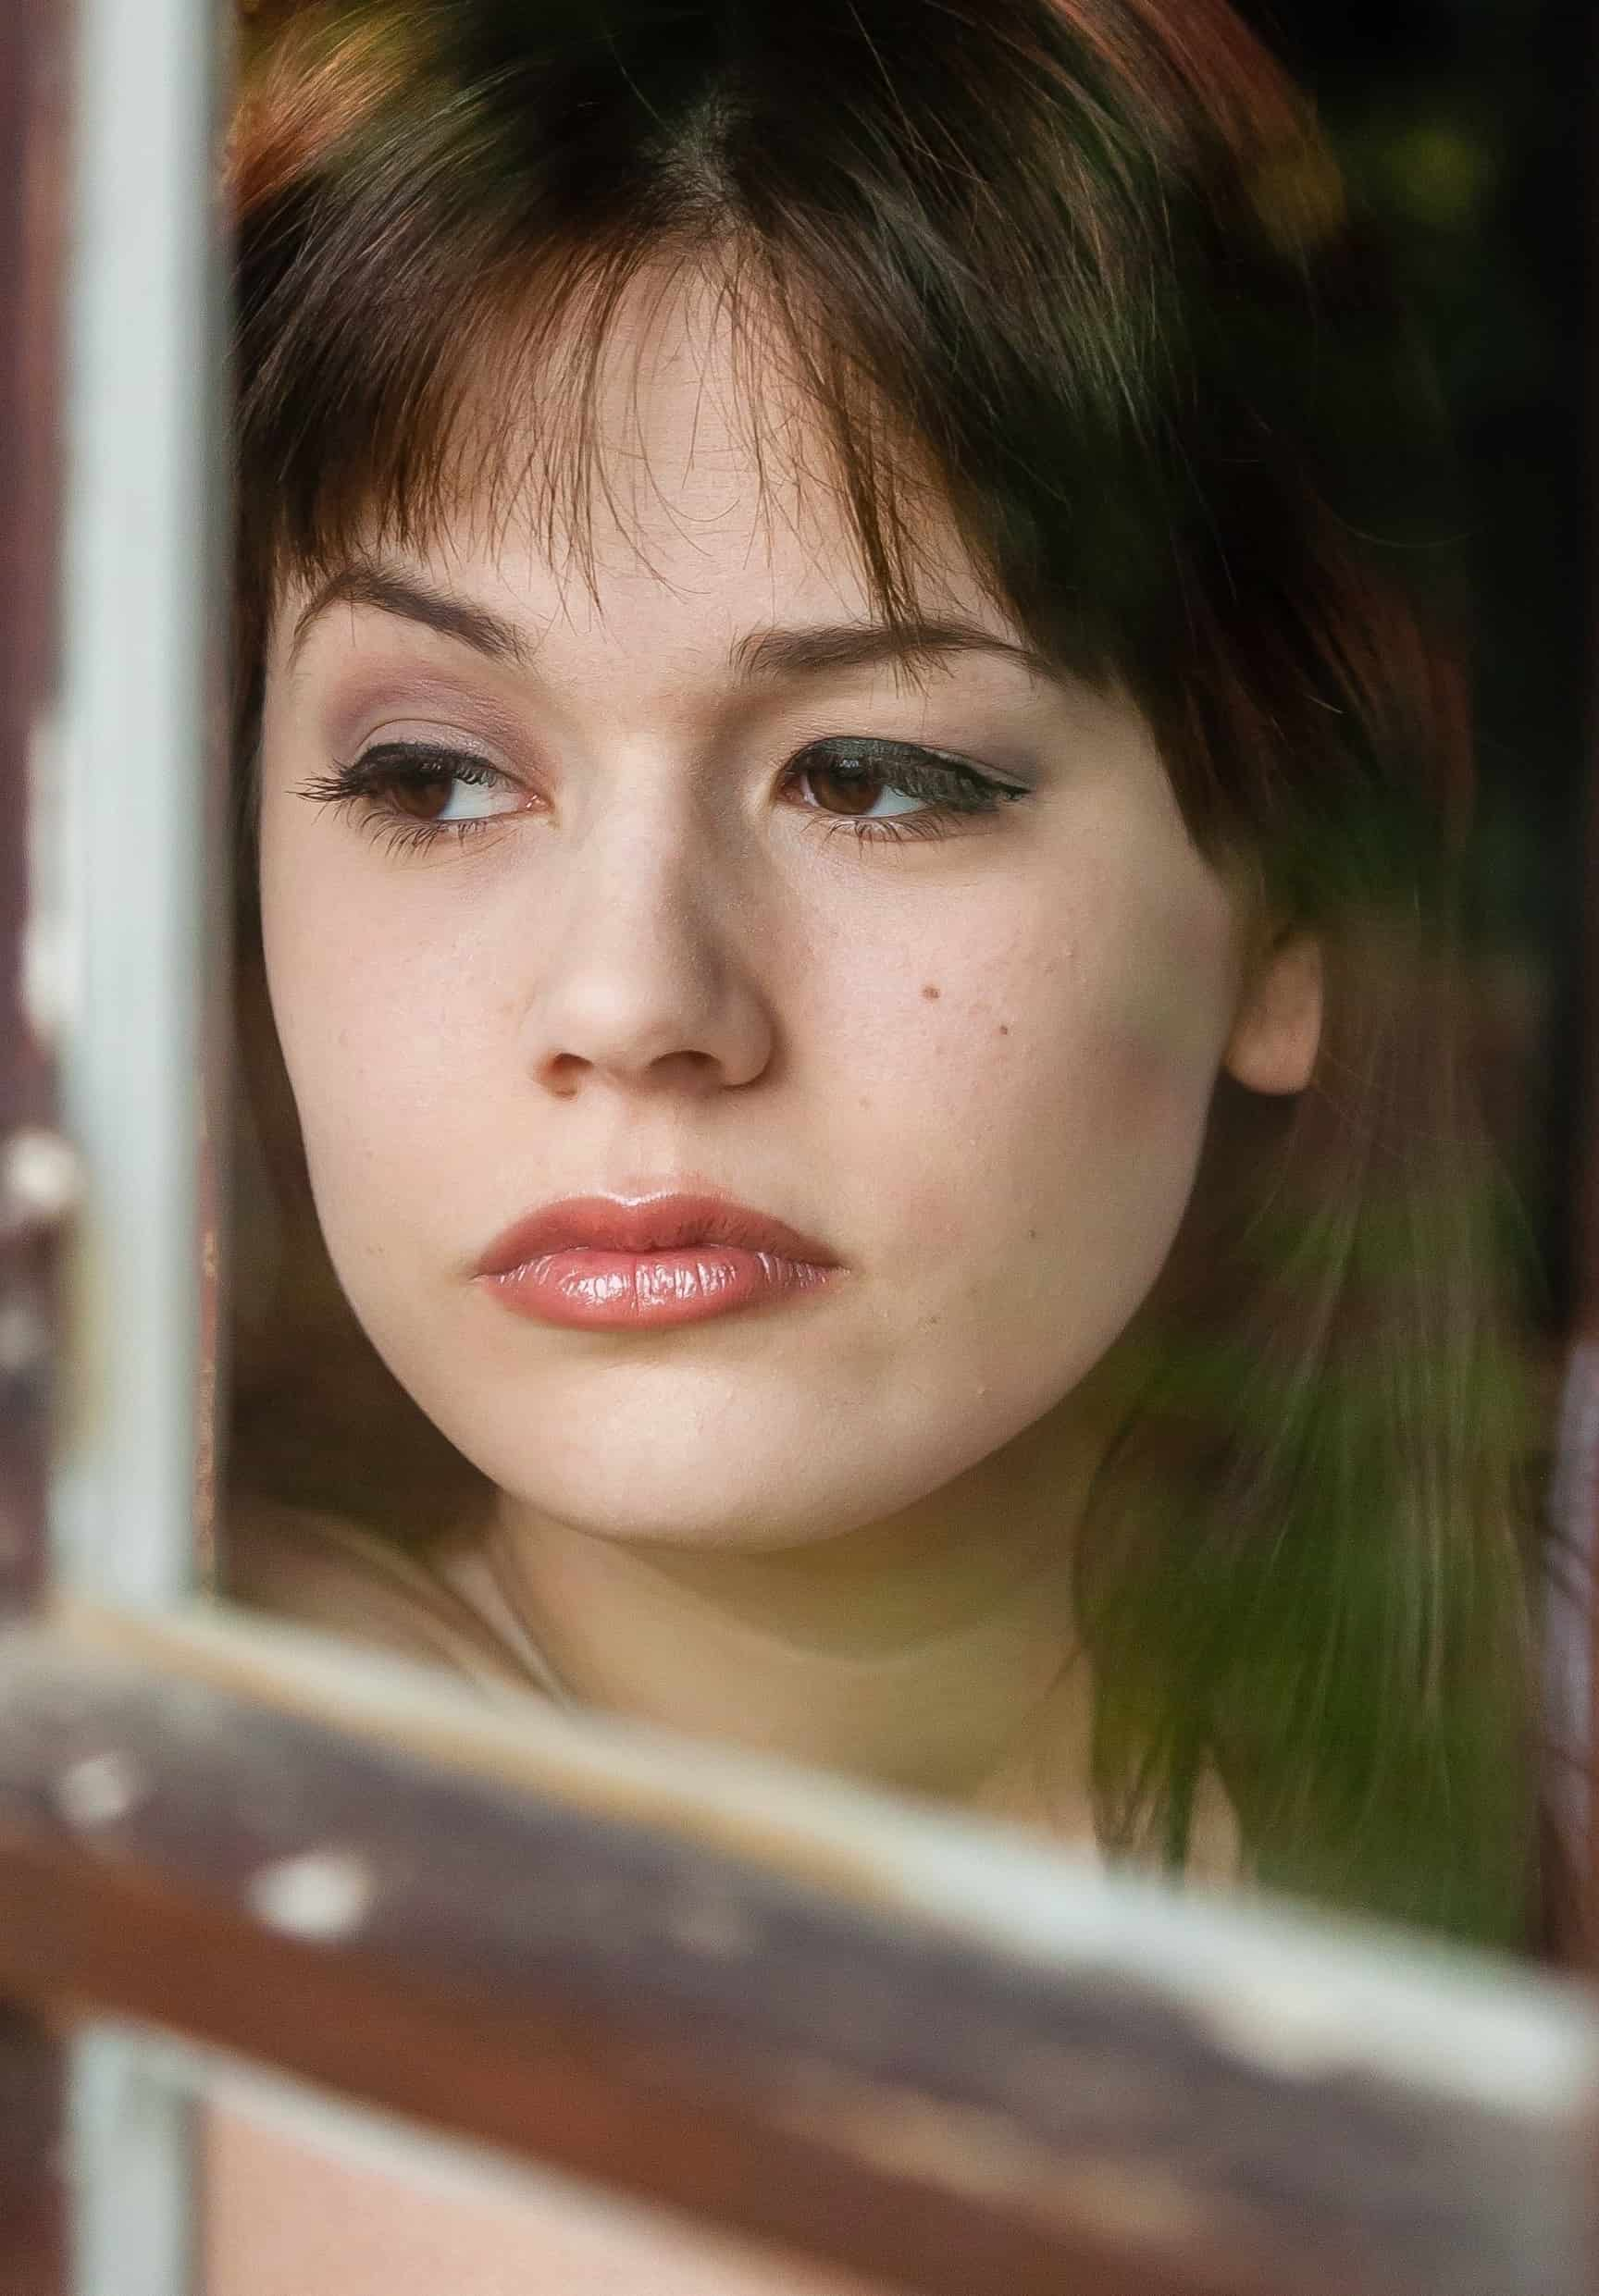human: (125, 1, 1589, 1826)
